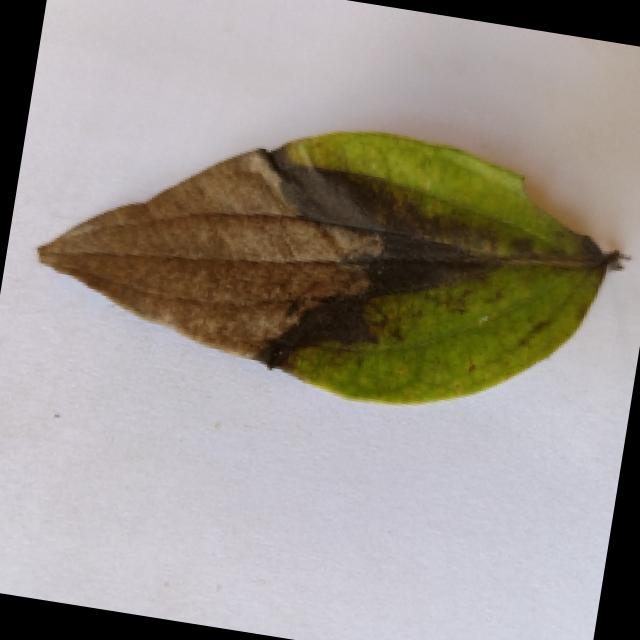footrot: (15, 67, 640, 464)
